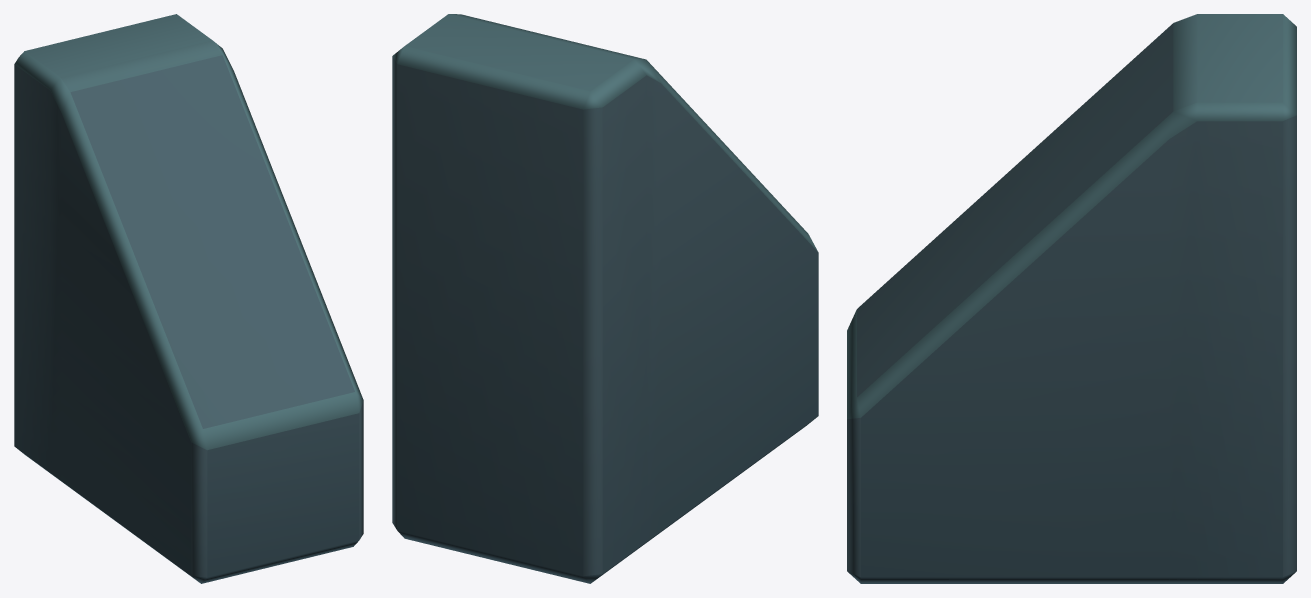
File: stair_sidewall2.fbx
3 renders of one model, left to right at view 1: azimuth 30°, elevation 25°; view 2: azimuth 150°, elevation 25°; view 3: azimuth 270°, elevation 25°, orthographic. The views are drawn at different scales.
Visible parts, largest first — view 1: stair_sidewall2; view 2: stair_sidewall2; view 3: stair_sidewall2.
Boxes of the visible parts, left/top/right/bottom form: stair_sidewall2: left=14, top=14, right=363, bottom=583; stair_sidewall2: left=392, top=14, right=818, bottom=583; stair_sidewall2: left=847, top=14, right=1296, bottom=583.
Bounding box in the file's own units: 53.12 × 119 × 101.
